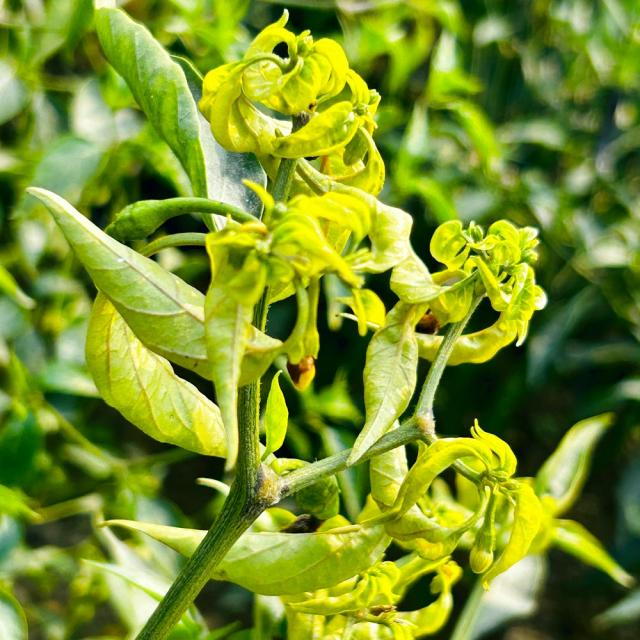Chilli_Leaf_Curl: (23, 4, 629, 638), (25, 184, 284, 466), (91, 3, 268, 234), (197, 7, 386, 194), (82, 287, 229, 461), (97, 512, 393, 596), (415, 217, 548, 366)
